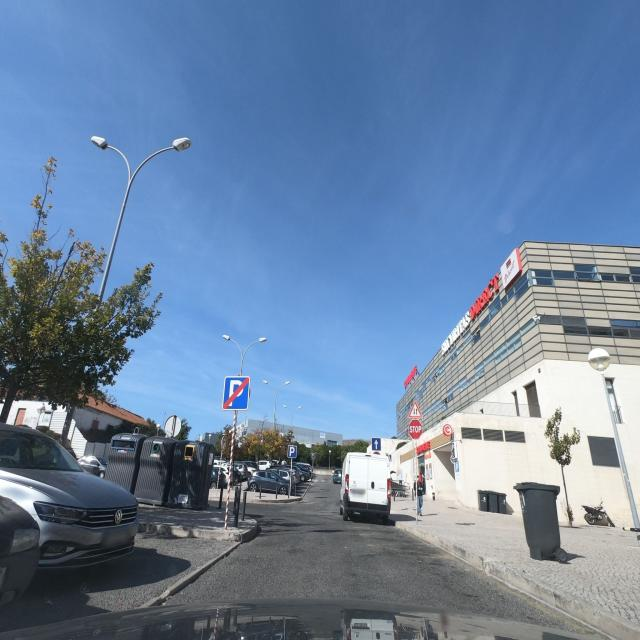car: (0, 420, 139, 525), (0, 451, 41, 611), (338, 449, 392, 523), (248, 469, 295, 494), (77, 455, 109, 478), (209, 466, 229, 488), (296, 463, 312, 482), (332, 468, 343, 484)
